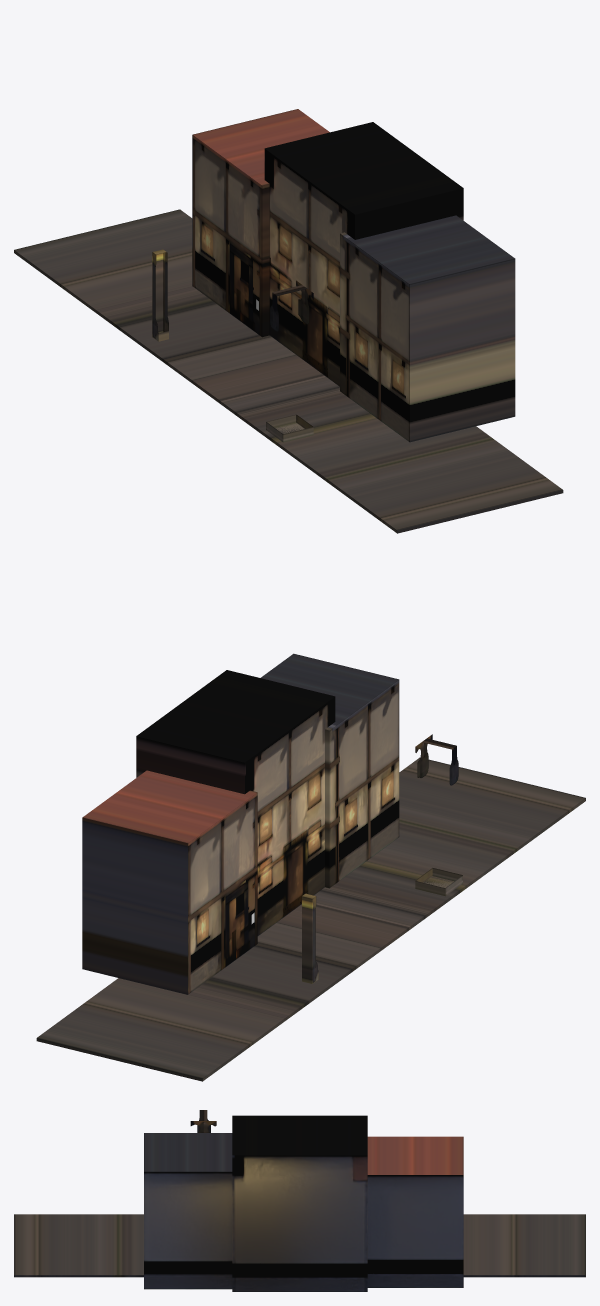
The model's file is environment.obj.
3 renders of one model, top to bottom at view 1: azimuth 30°, elevation 25°; view 2: azimuth 150°, elevation 25°; view 3: azimuth 270°, elevation 25°, orthographic. The views are drawn at different scales.
Parts seen in each view (by area): view 1: RND_Environment_Mesh_EnvironmentBakedAtlas; view 2: RND_Environment_Mesh_EnvironmentBakedAtlas; view 3: RND_Environment_Mesh_EnvironmentBakedAtlas.
Part boxes in pixels (box(x1,y1,x2,y2)): RND_Environment_Mesh_EnvironmentBakedAtlas: box(14, 109, 563, 533); RND_Environment_Mesh_EnvironmentBakedAtlas: box(36, 653, 585, 1081); RND_Environment_Mesh_EnvironmentBakedAtlas: box(14, 1110, 585, 1291).
Bounding box in the file's own units: 7.05 × 6.1 × 22.
Materials: 1 (1 with a texture image).
